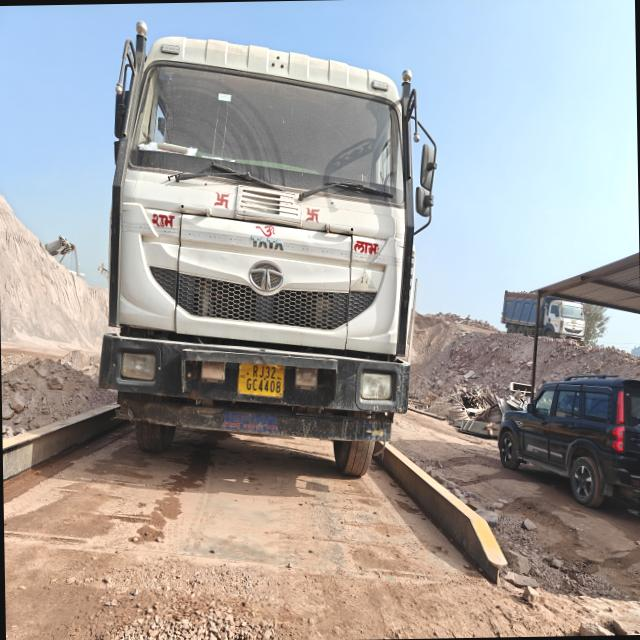license_plate: (238, 364, 284, 397)
